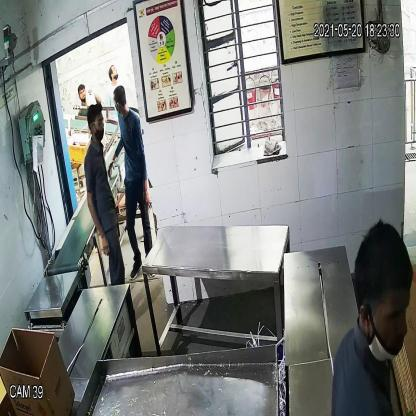goggles: (86, 117, 108, 132)
